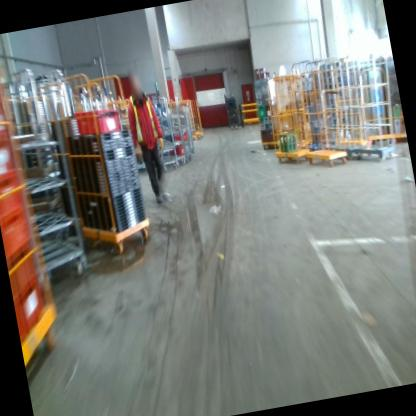pallet_truck: (219, 89, 244, 140)
small_load_carrier: (7, 247, 53, 349), (67, 97, 127, 142), (0, 187, 35, 259), (0, 140, 22, 191), (0, 101, 13, 145), (165, 140, 193, 159), (171, 125, 190, 142)
